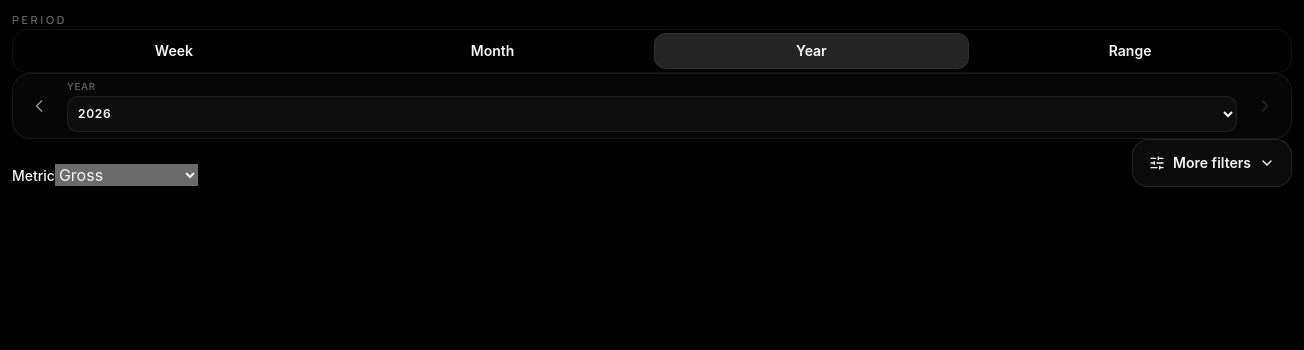
Test case: StatisticsFilterBar › uses an iOS-style period selector without Today and reveals a custom range
expect the button "Week" is shown: met, box [16,32,332,68]
expect the button "Month" is shown: met, box [335,32,651,68]
What coordinates should you click on to do the following:
click the button named "Previous period"
I would click on:
 (39, 106)
Its box is [19,86,59,126].
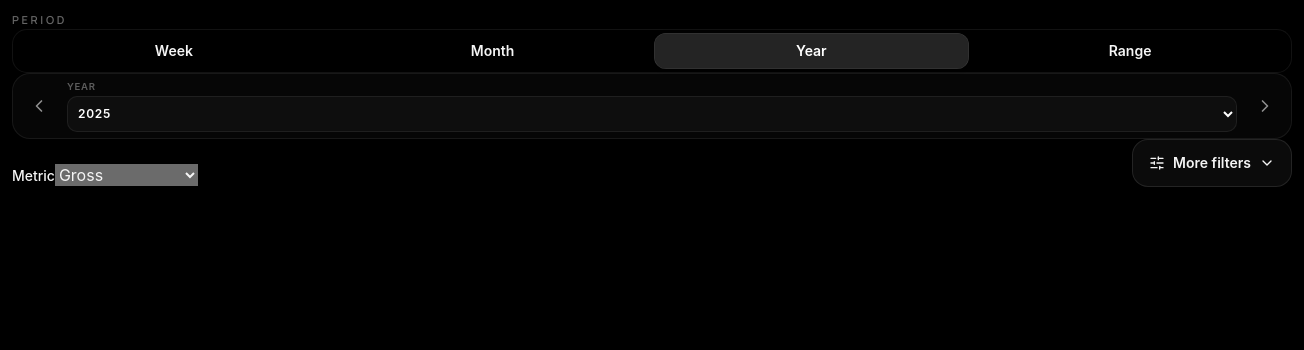
expect the dropdown labelled "Year" shows "2025": met, box [67,96,1237,132]
What coordinates should you click on to do the following:
click the button "Range"
I would click on:
 (1130, 50)
Its box is [972,32,1288,68].
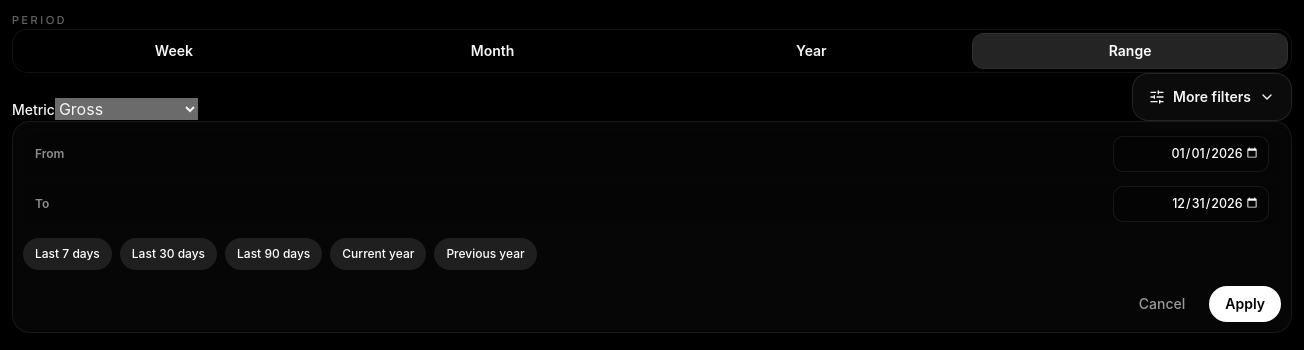
expect the date field labelled "From" is shown: met, box [1113,136,1269,172]
expect the date field labelled "To" is shown: met, box [1113,186,1269,222]
